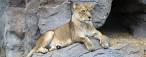lion: (31, 1, 112, 53)
